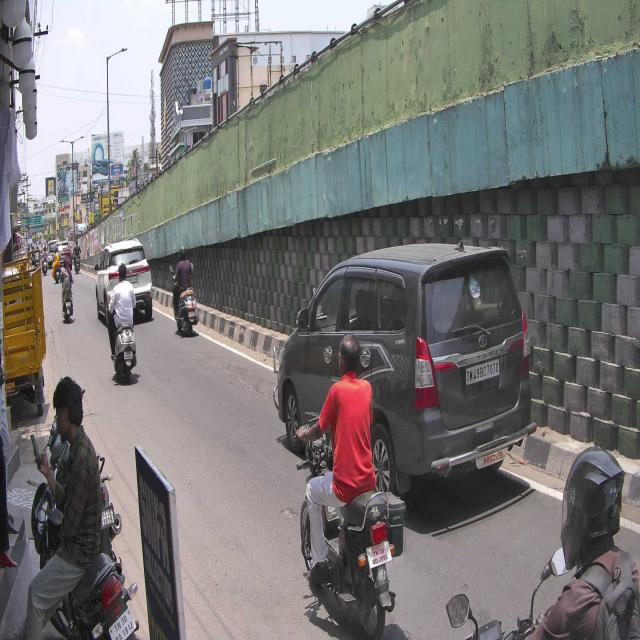single_rider: (291, 332, 407, 640)
